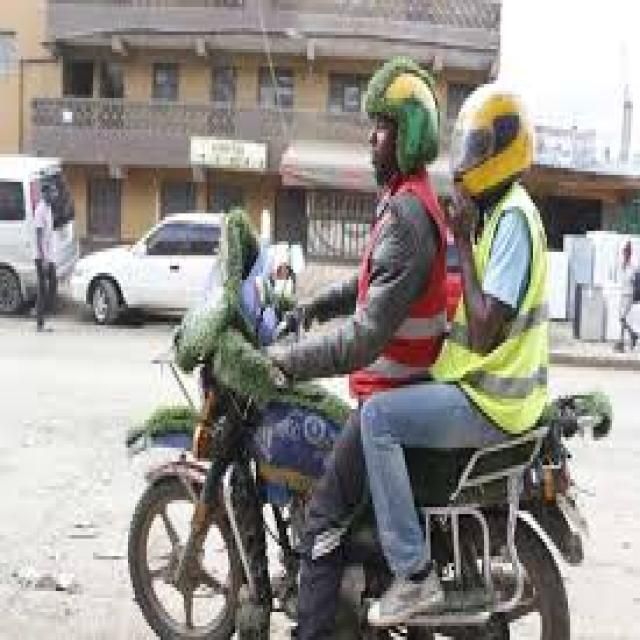bodaboda: (19, 175, 625, 640)
